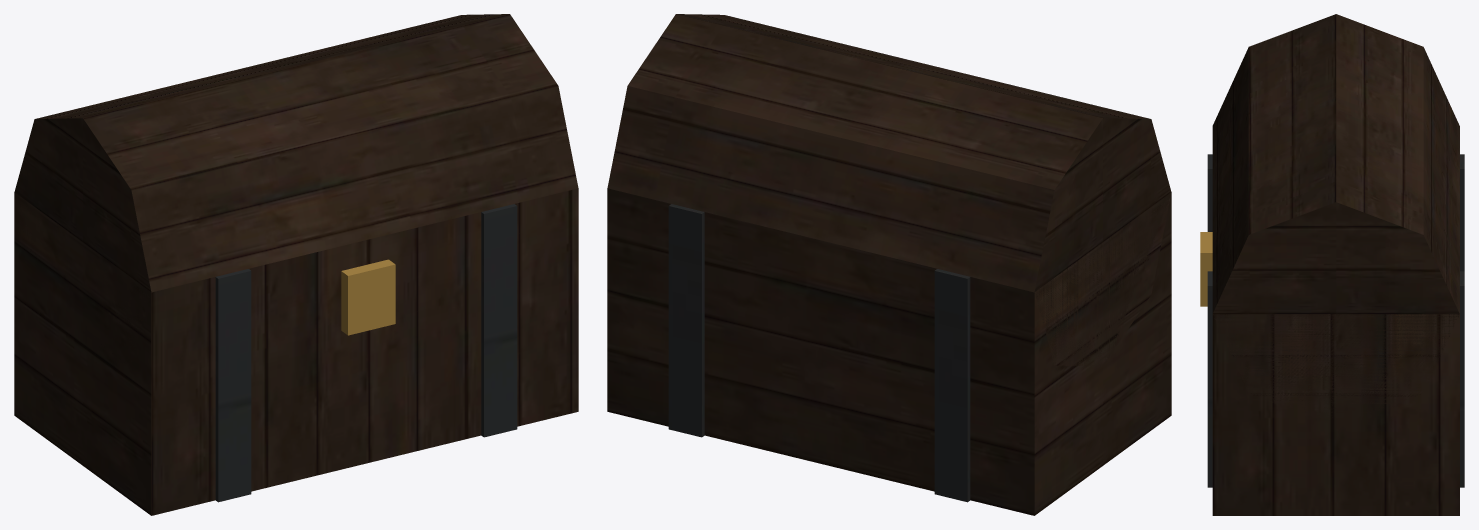
File: trunk_01.glb
The picture shows the model from 3 angles, left to right: view 1: azimuth 30°, elevation 25°; view 2: azimuth 150°, elevation 25°; view 3: azimuth 270°, elevation 25°; orthographic projection. The views are drawn at different scales.
Visible parts, largest first — view 1: trunk_01; view 2: trunk_01; view 3: trunk_01.
Part boxes in pixels (x1,y1,x2,y2): trunk_01: (14,14,578,515); trunk_01: (607,14,1171,515); trunk_01: (1200,14,1464,515).
Size of the model in its own units: 0.9 by 0.7 by 0.535.
Materials: 3 (2 with a texture image).
